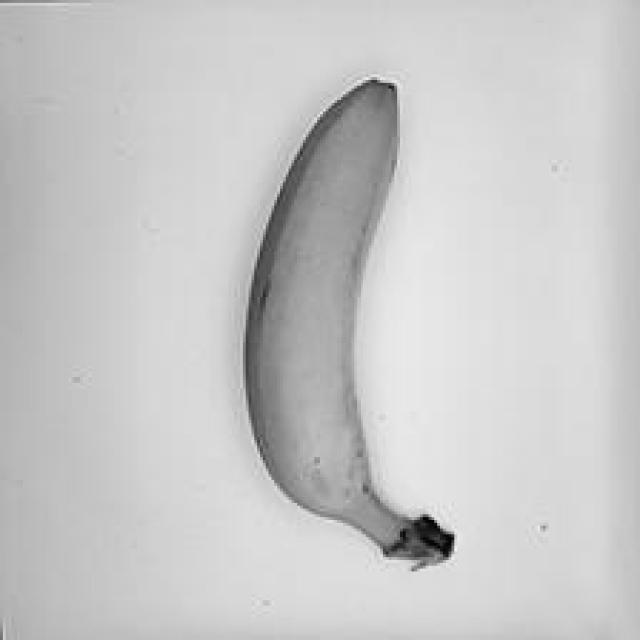Unripe: (220, 44, 497, 583)
